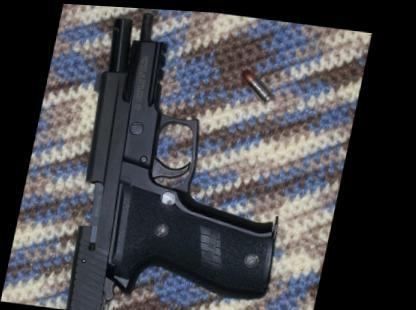pistol: (54, 6, 328, 307)
